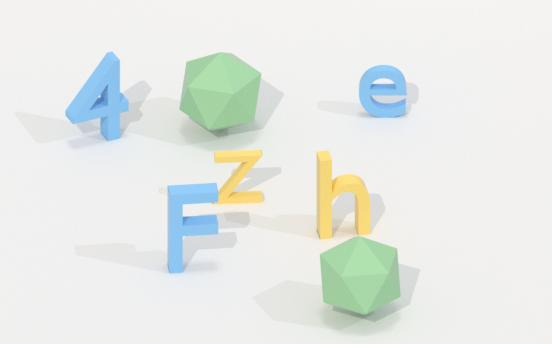4: (62, 52, 136, 141)
F: (160, 179, 231, 276)
dagiac: (175, 51, 267, 134), (311, 237, 410, 314)
e: (355, 63, 412, 120)
h: (308, 151, 379, 240)
z: (211, 149, 266, 206)
